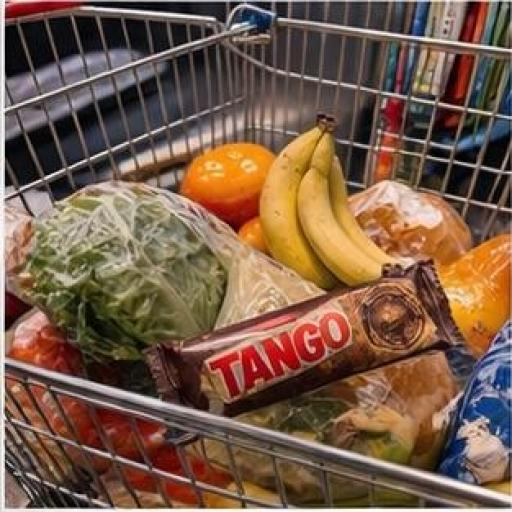tango: (82, 224, 475, 423)
